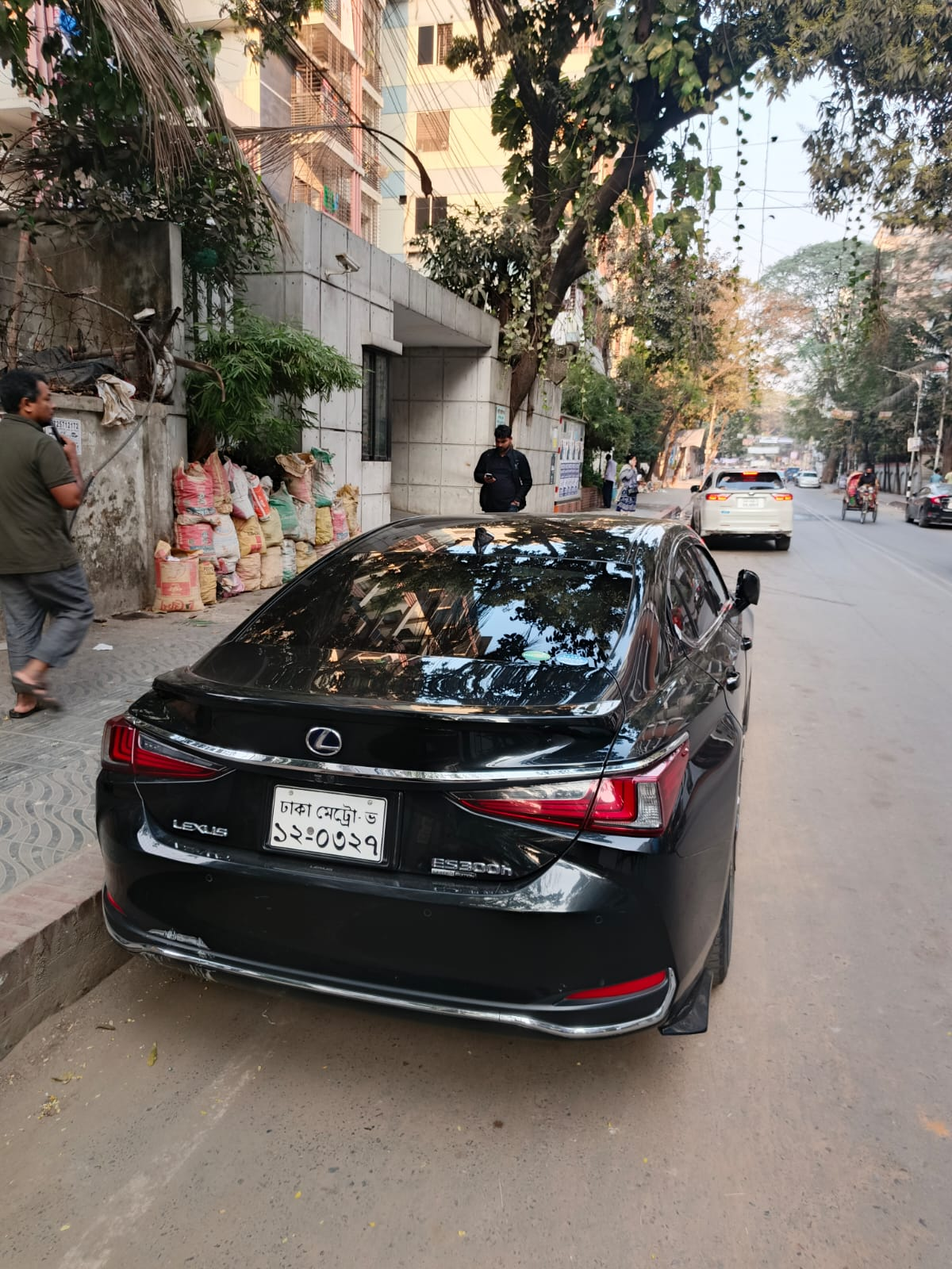auto-ricksaw: (830, 442, 912, 538)
private car: (42, 503, 762, 1082), (627, 416, 867, 555), (894, 468, 952, 538)
